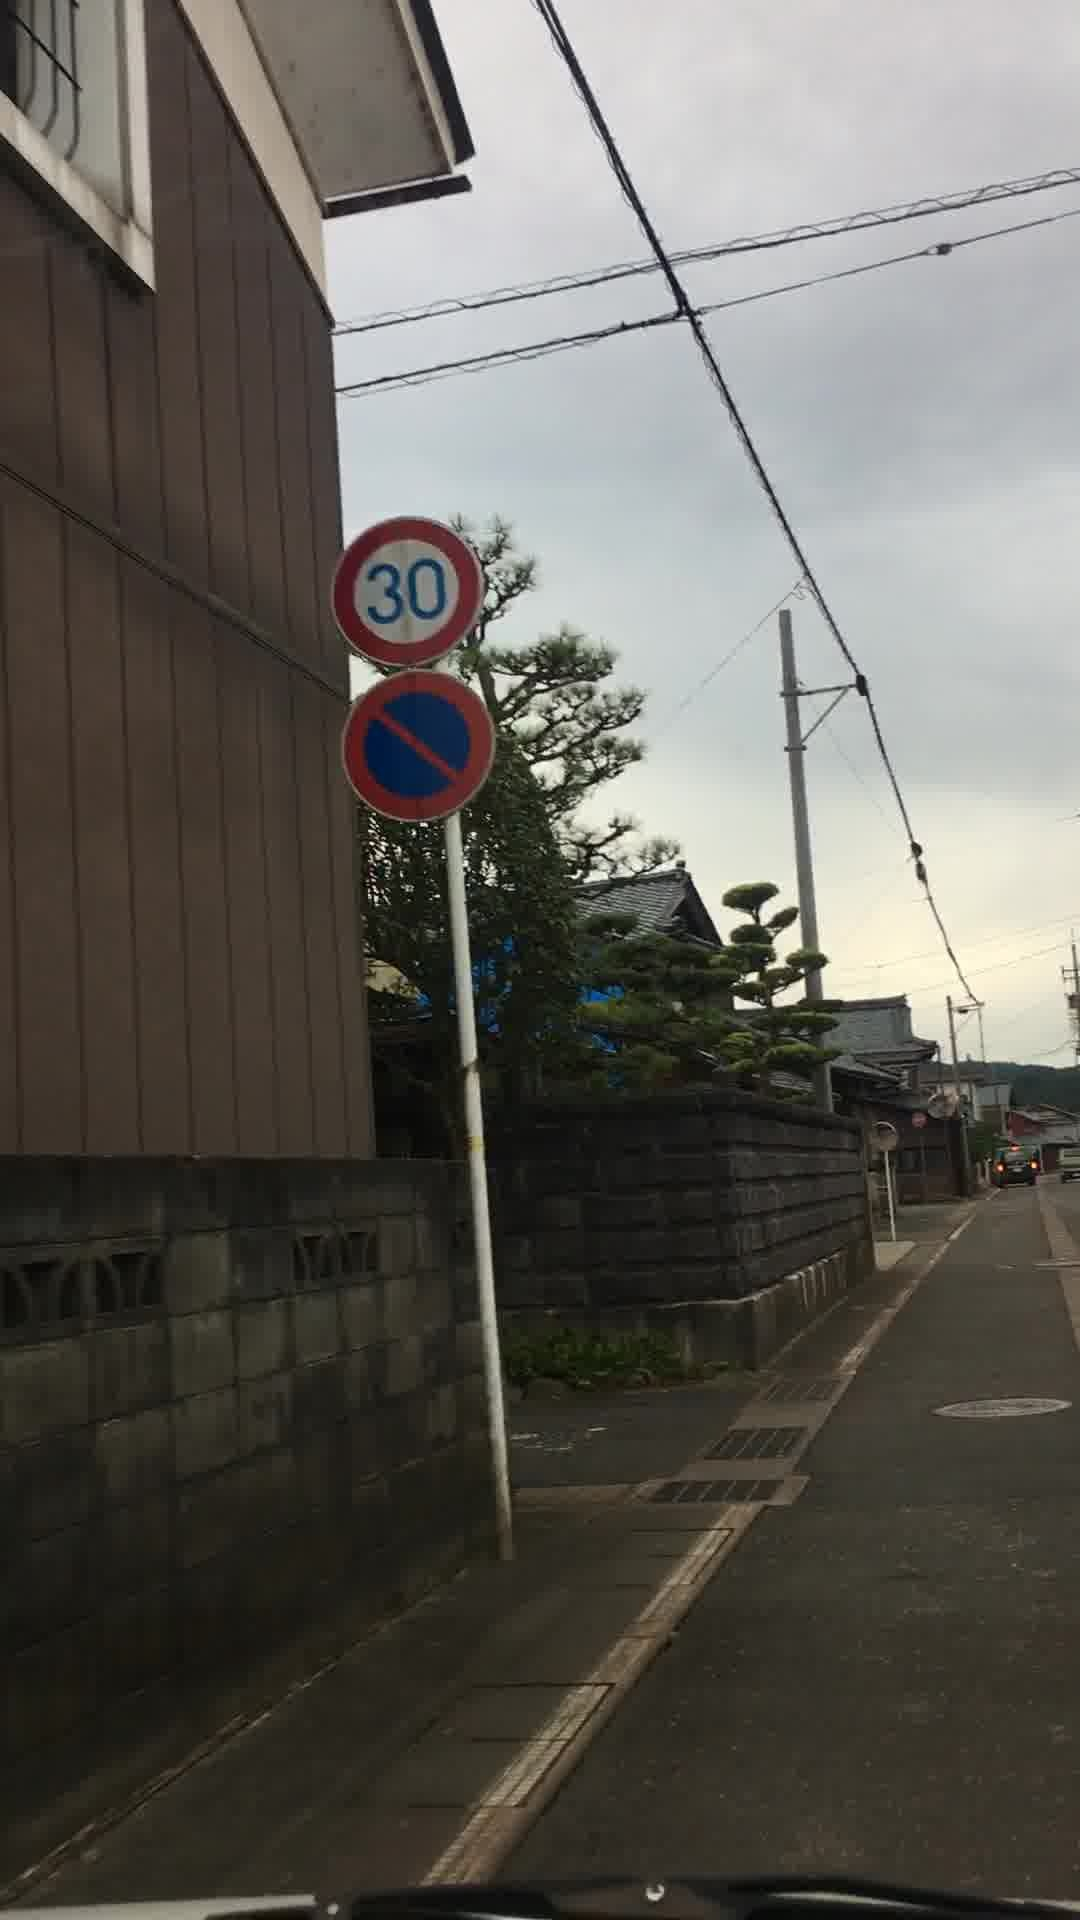Prohibition_sign: (328, 669, 508, 829)
Speed_sign: (328, 512, 516, 669)
